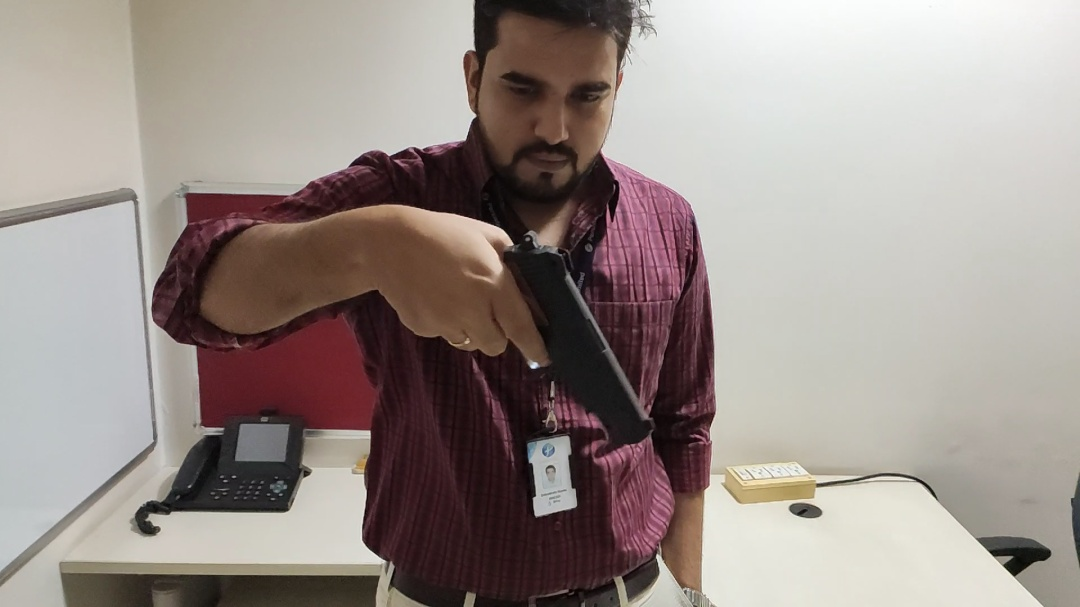gun: (416, 224, 684, 444)
